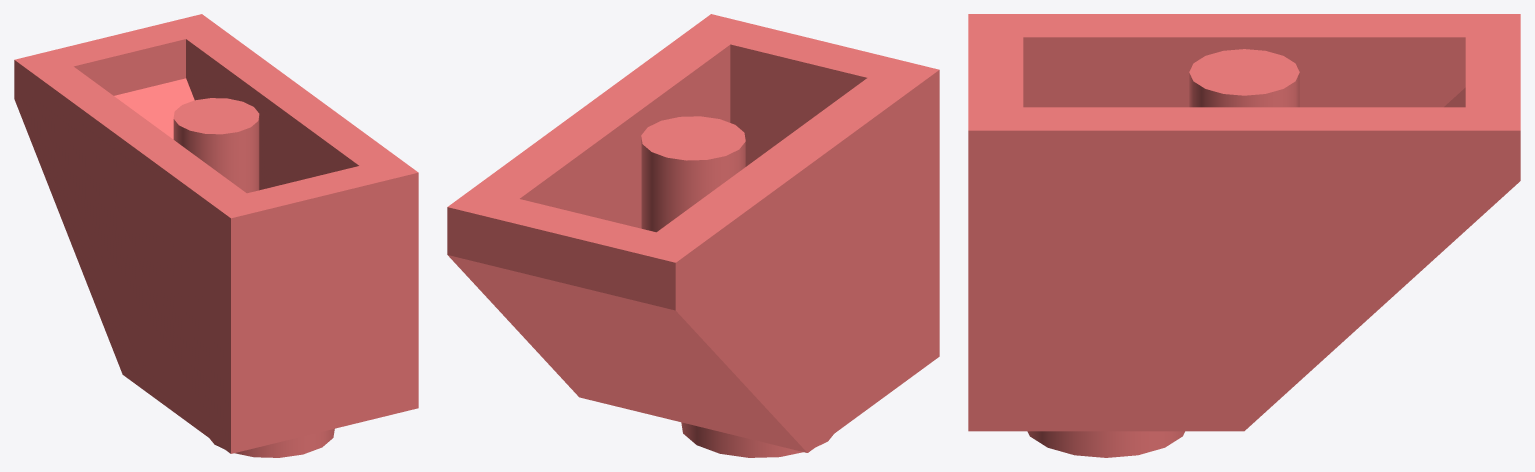
3 views of the same model, side by side, from view 1: azimuth 30°, elevation 25°; view 2: azimuth 150°, elevation 25°; view 3: azimuth 270°, elevation 25° (orthographic). The views are drawn at different scales.
Visible parts, largest first — view 1: LDrawPart; view 2: LDrawPart; view 3: LDrawPart.
Part boxes in pixels (<box>): LDrawPart: <box>14,14,418,457</box>; LDrawPart: <box>447,14,939,457</box>; LDrawPart: <box>968,14,1520,457</box>.
Bounding box in the file's own units: 0.14 × 0.196 × 0.28.
